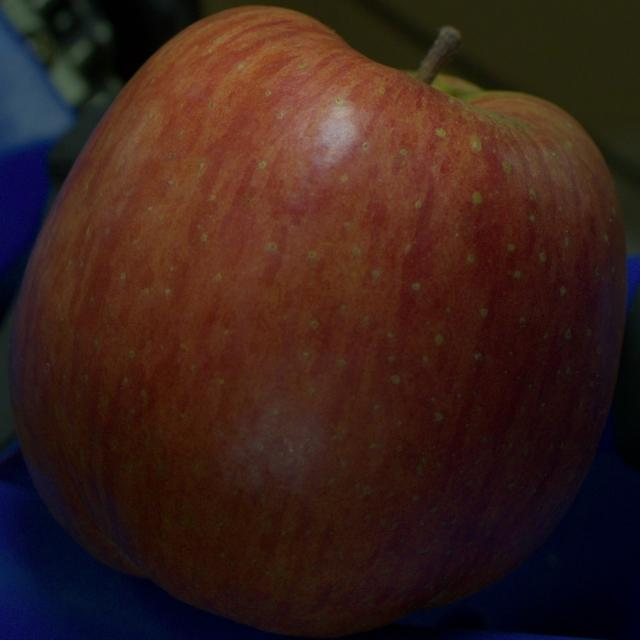apple: (9, 8, 625, 636)
